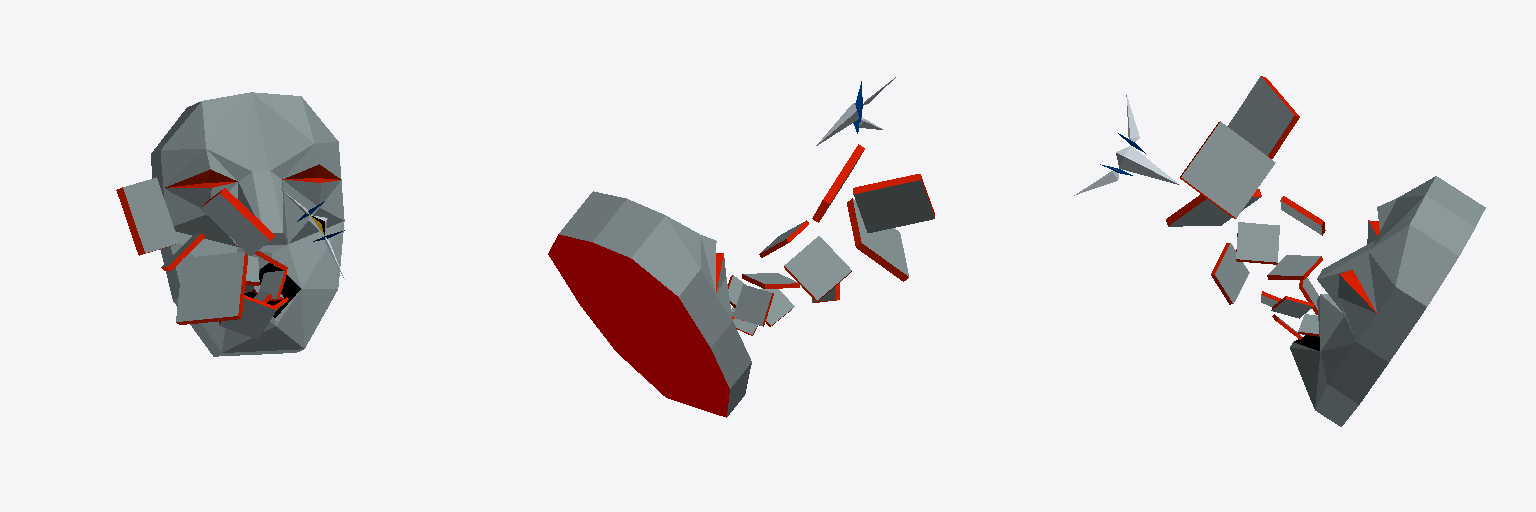
The picture shows the model from 3 angles: view 1: azimuth 30°, elevation 25°; view 2: azimuth 150°, elevation 25°; view 3: azimuth 270°, elevation 25°; orthographic projection.
Parts seen in each view (by area): view 1: polygon2, polygon10, polygon22, polygon18, polygon3, polygon24, polygon1, polygon0, polygon19; view 2: polygon2, polygon22, polygon16, polygon10, polygon6, polygon0, polygon11, polygon19, polygon14; view 3: polygon2, polygon18, polygon22, polygon0, polygon12, polygon24, polygon10, polygon20.
Part boxes in pixels (x1,y1,x2,y2): polygon2: (151,92,344,356); polygon10: (176,252,244,321); polygon22: (123,177,178,252); polygon18: (200,194,269,255); polygon3: (165,164,340,187); polygon24: (219,298,276,339); polygon1: (244,263,300,317); polygon0: (281,189,344,279); polygon19: (202,188,275,240); polygon2: (548,191,751,417); polygon22: (853,180,934,232); polygon16: (784,236,851,300); polygon10: (853,199,908,276); polygon6: (733,284,771,325); polygon0: (816,77,895,145); polygon11: (847,198,908,281); polygon19: (812,144,864,222); polygon14: (761,288,794,325); polygon2: (1290,176,1485,426); polygon18: (1181,121,1275,218); polygon22: (1227,76,1293,155); polygon0: (1074,94,1179,195); polygon12: (1236,222,1279,262); polygon24: (1215,243,1249,303); polygon10: (1168,197,1260,226); polygon20: (1268,255,1320,275).
Size of the model in its own units: 17.3 by 15.42 by 21.05.
Materials: 28 (2 with a texture image).